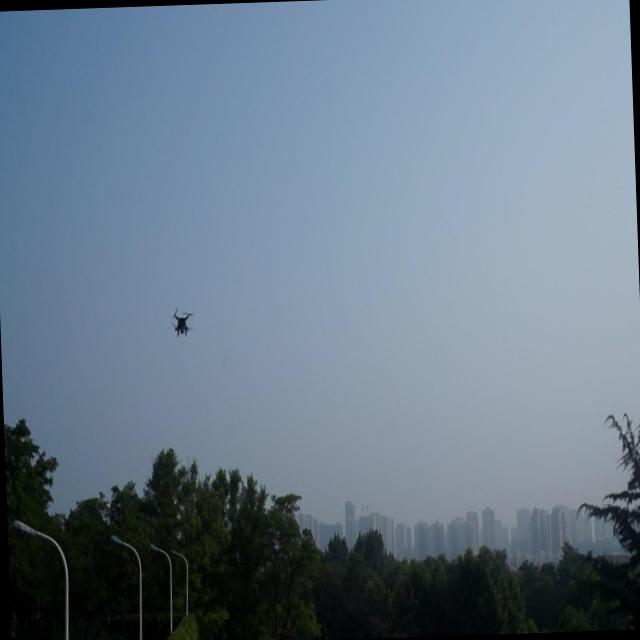drone: (168, 306, 194, 340)
